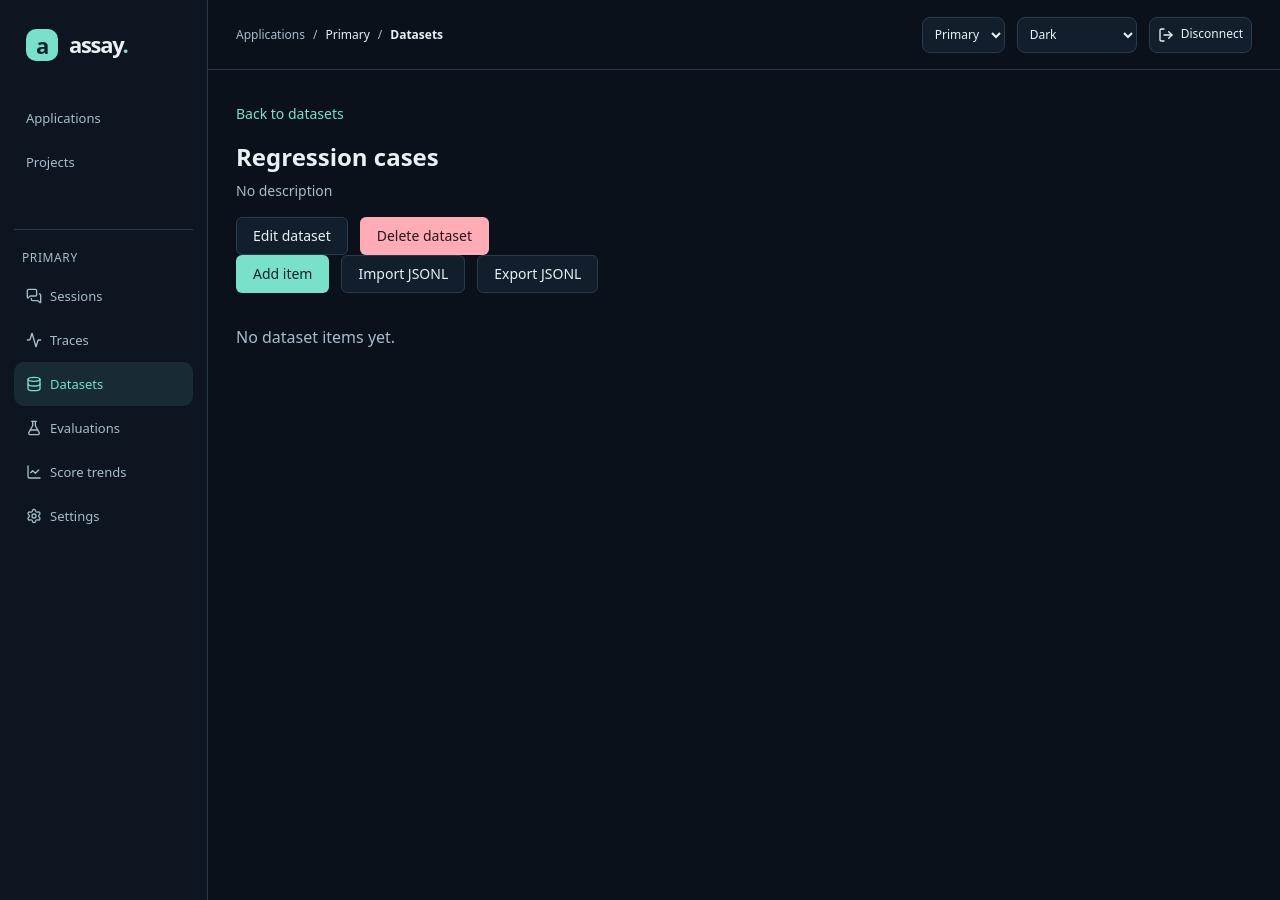
Test: updates dataset metadata without changing its cases
Click the button "Edit dataset".
click(292, 236)  # box [236,217,348,255]
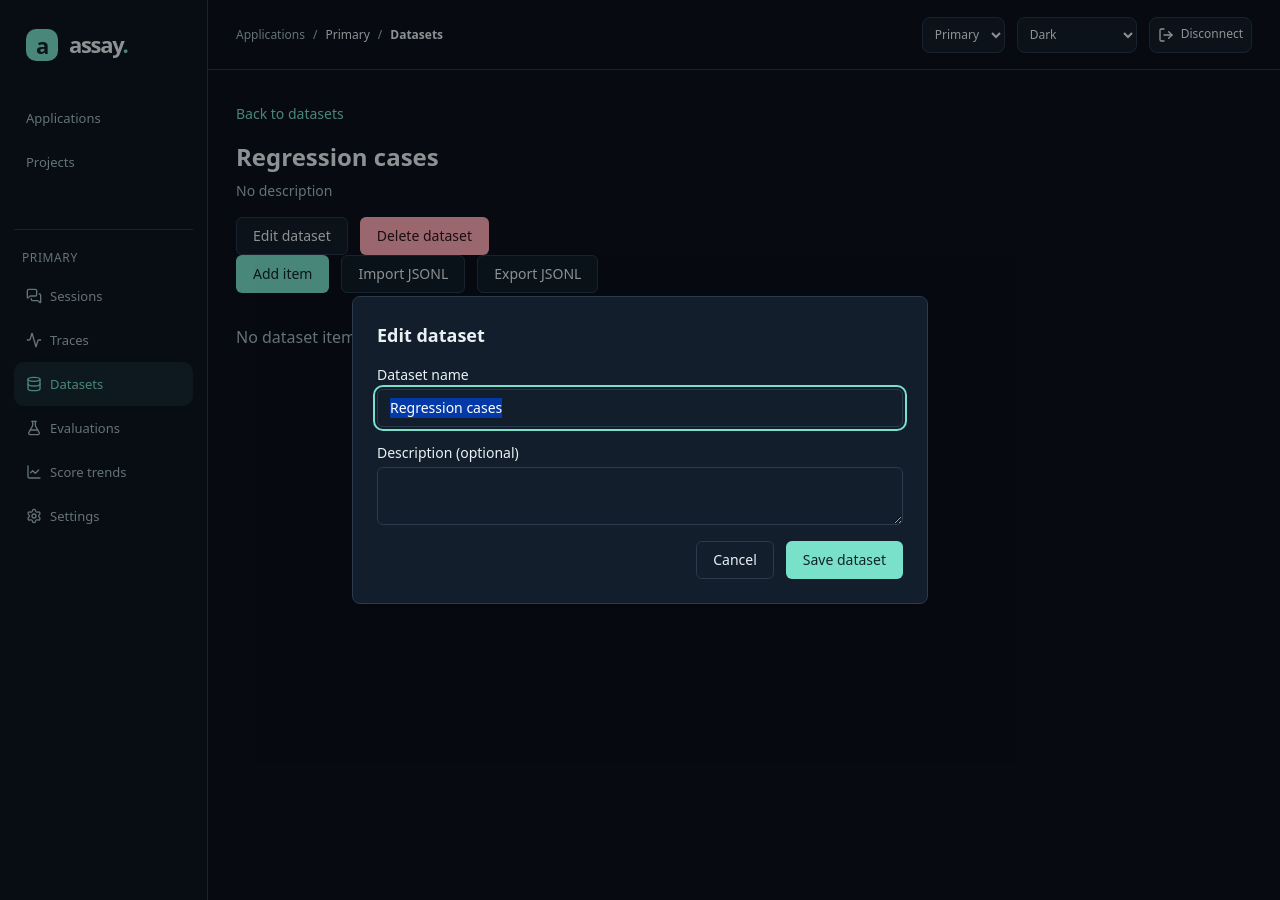
Replace the text in the field labelled "Dataset name" with "Updated cases" at (640, 408), box [377,389,903,427]
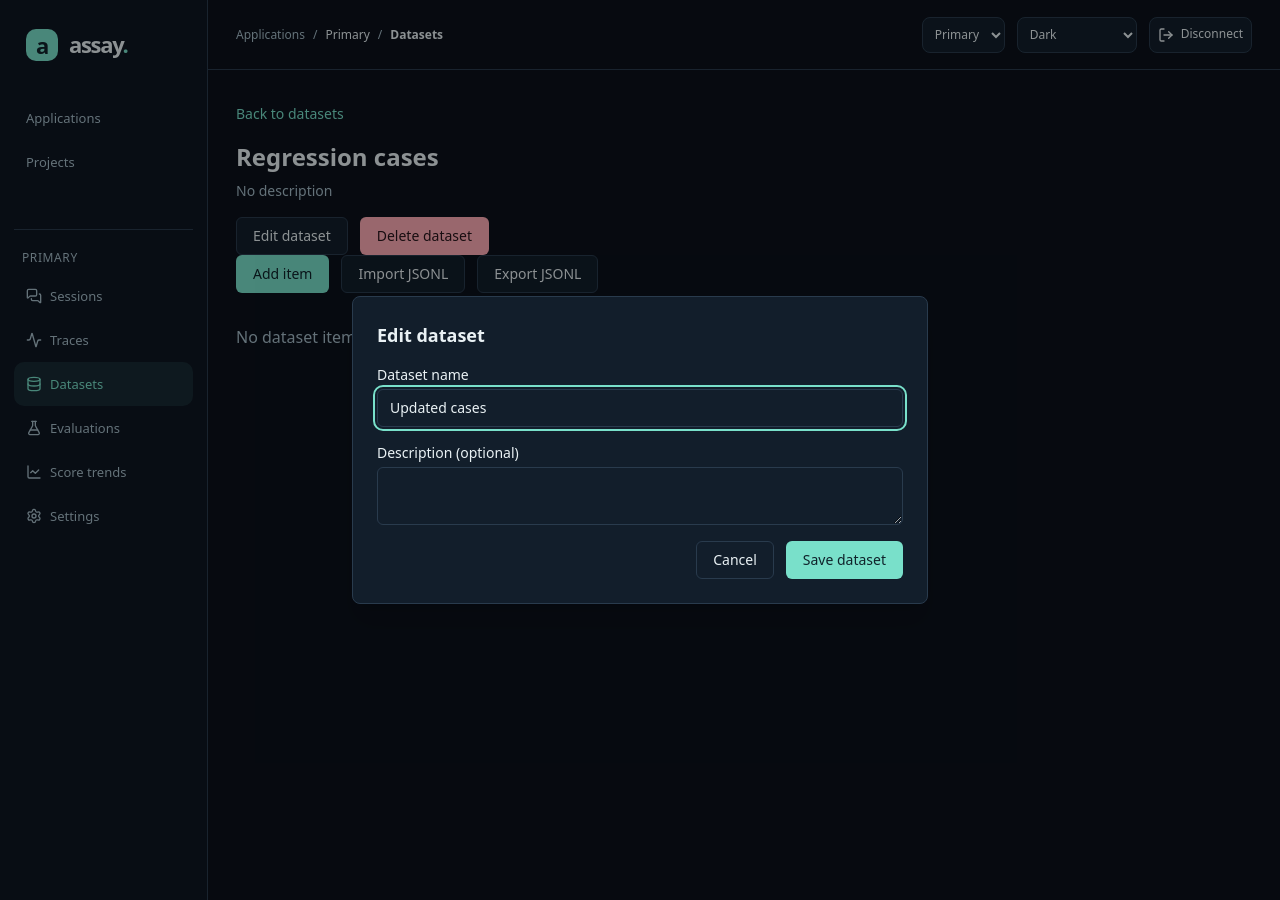
Clear the text box labelled "Description (optional)" at (640, 496), box [377,467,903,525]
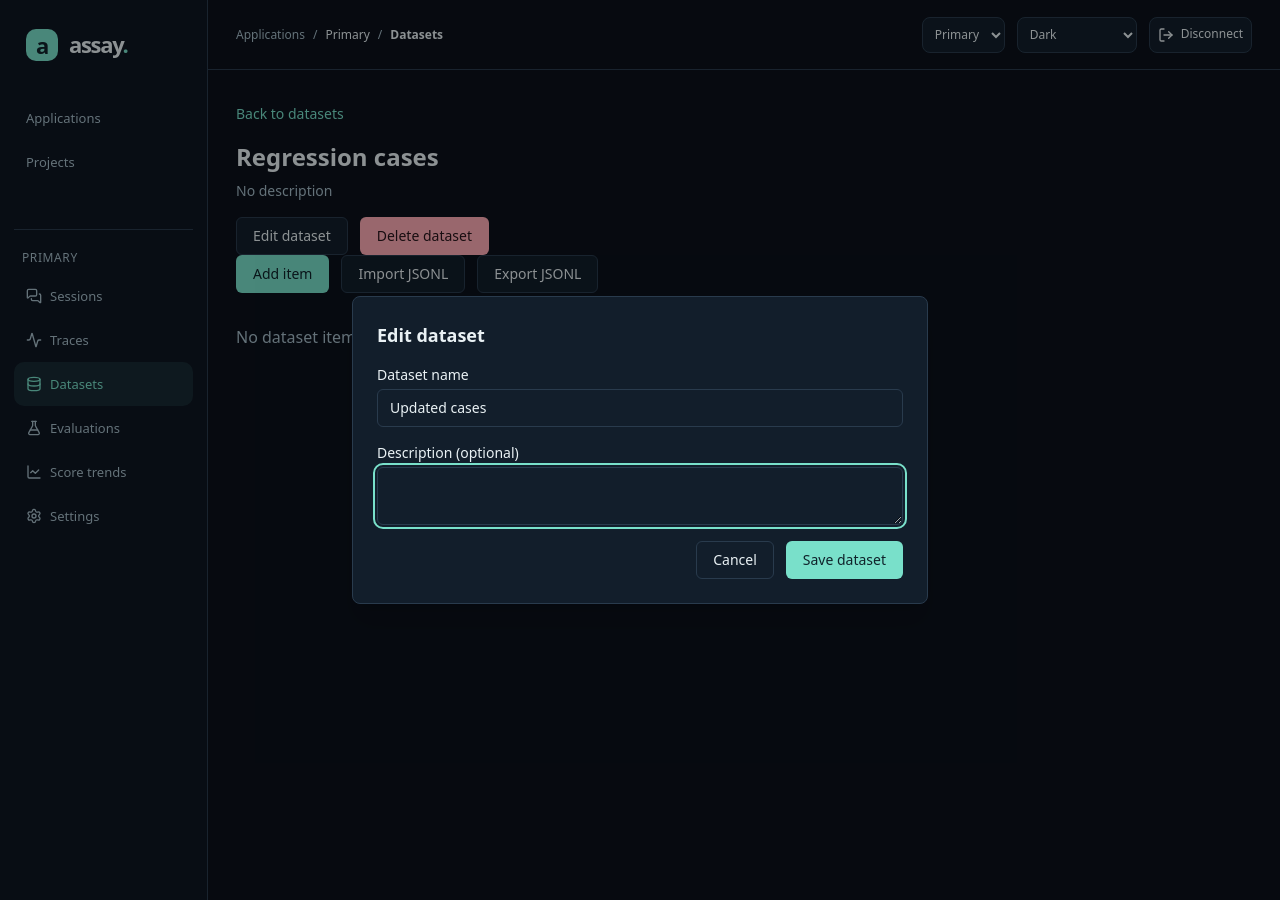
Click the button "Save dataset".
click(844, 560)  # box [786,541,903,579]
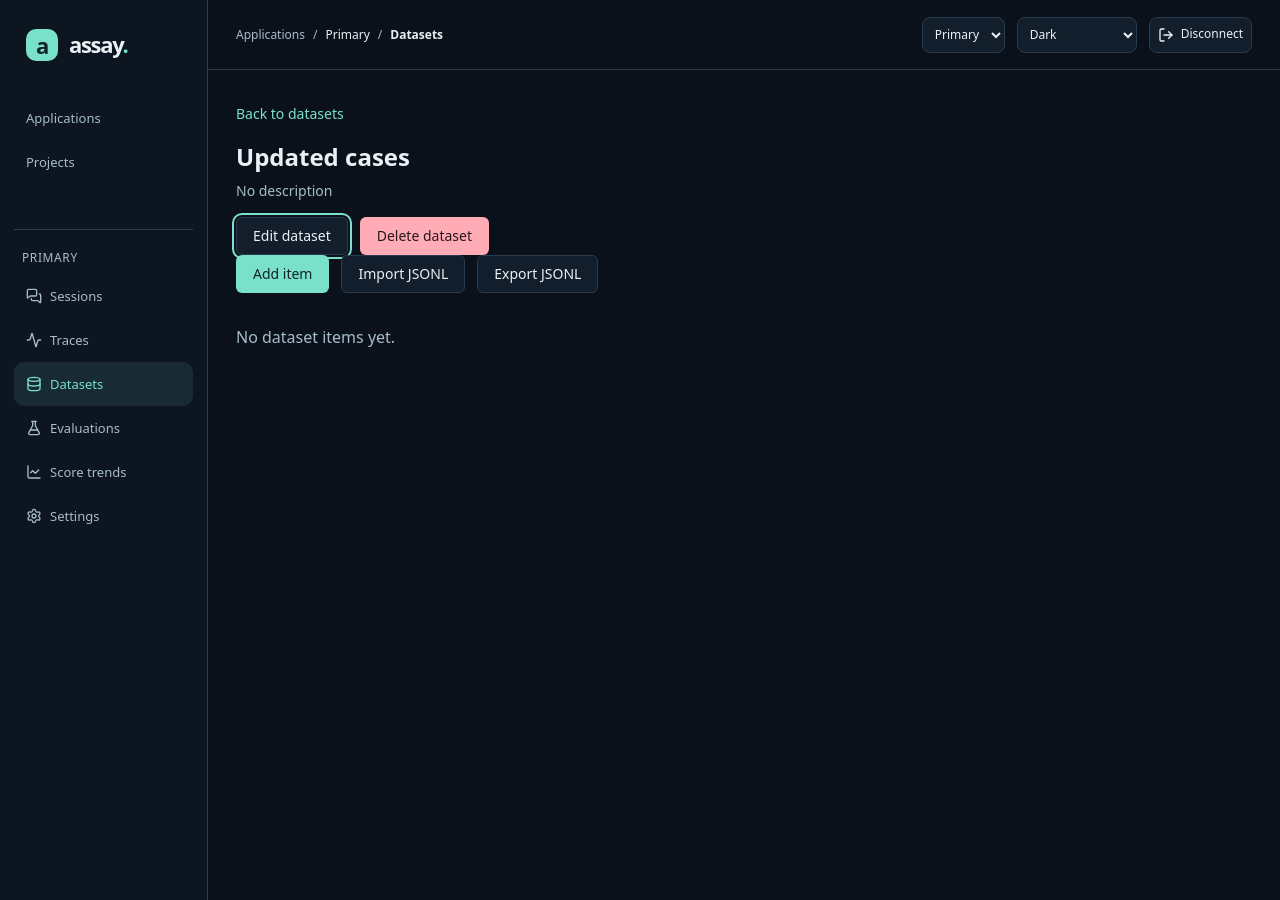
Expected: the text "No description" is shown, [236,181,332,200]
Expected: the heading "Updated cases" is shown, [236,140,410,173]
